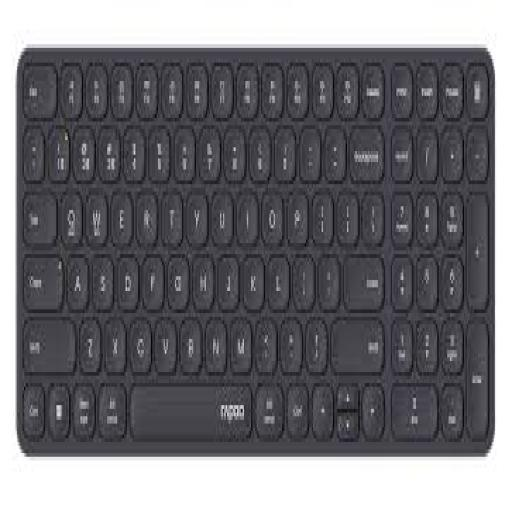KEYBOARD-2: (16, 48, 494, 453)
